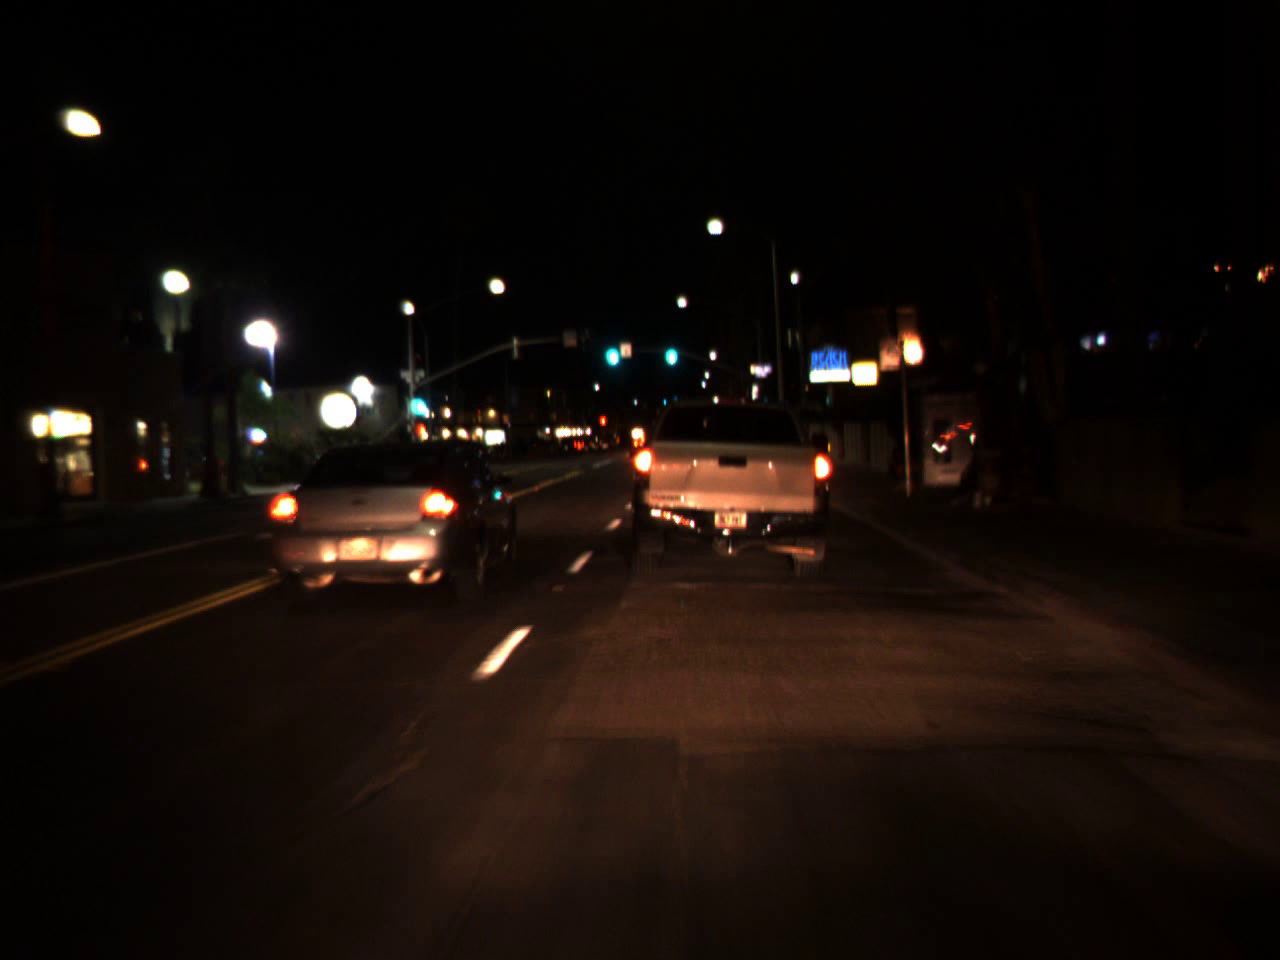go: (599, 325, 622, 373), (660, 330, 679, 369), (409, 402, 427, 417)
